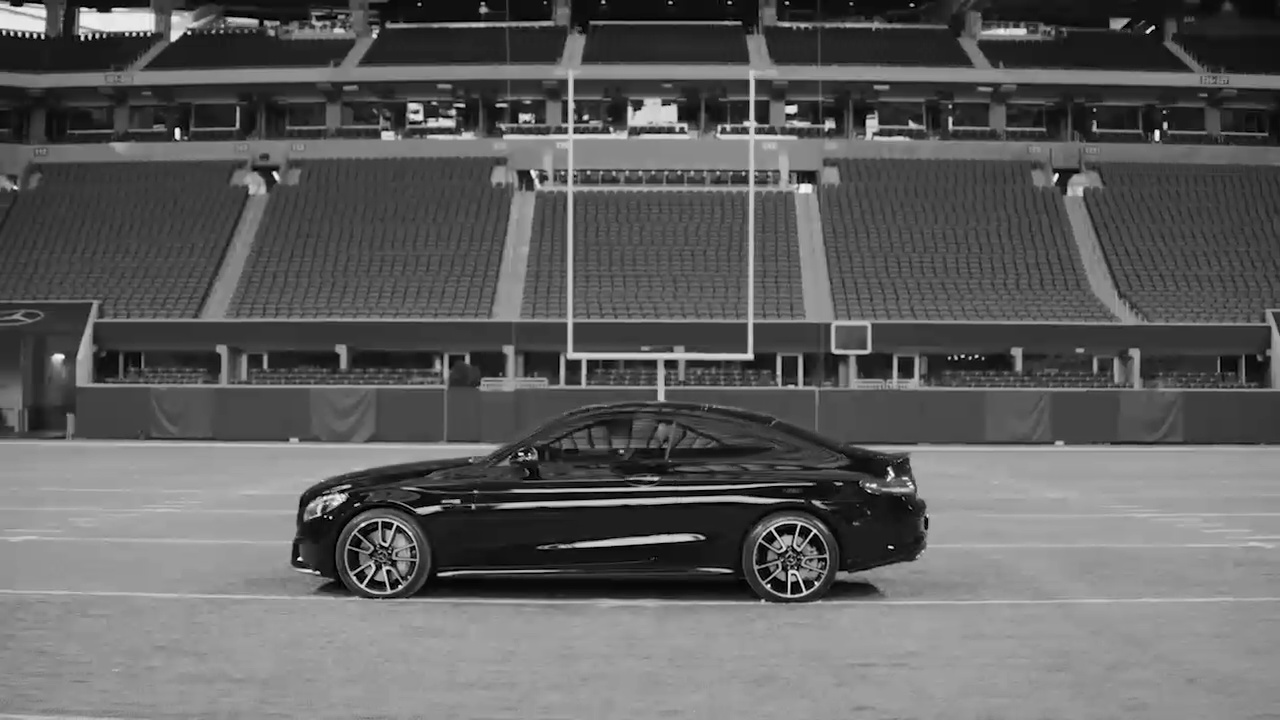car: (289, 398, 936, 604)
